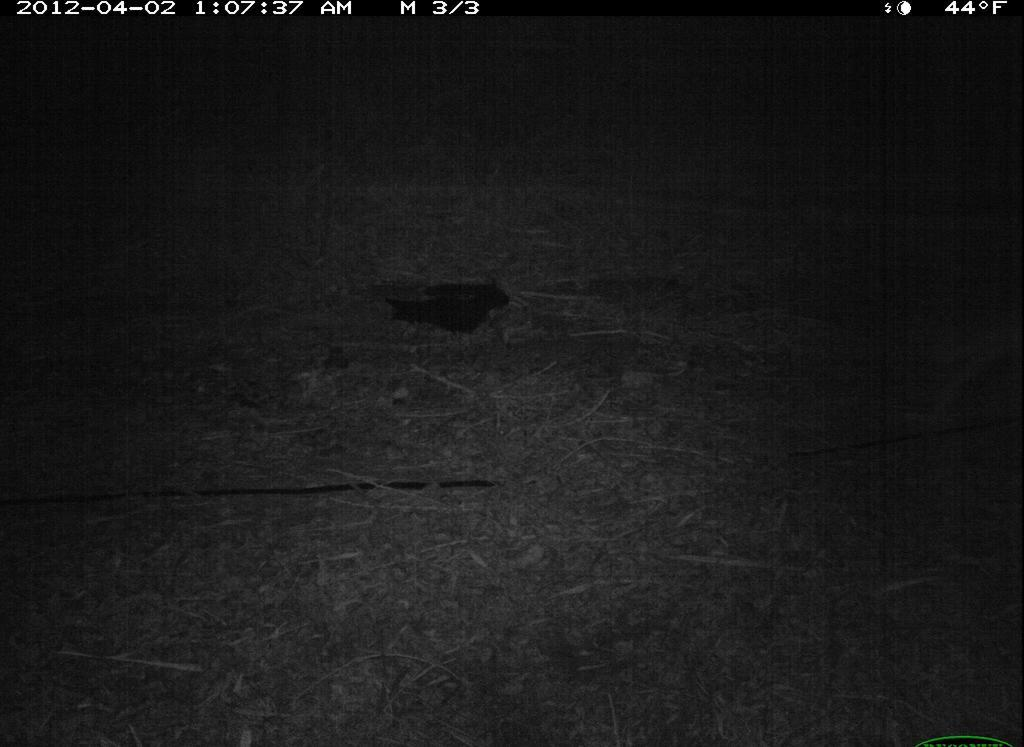coyote: (884, 295, 1022, 419)
